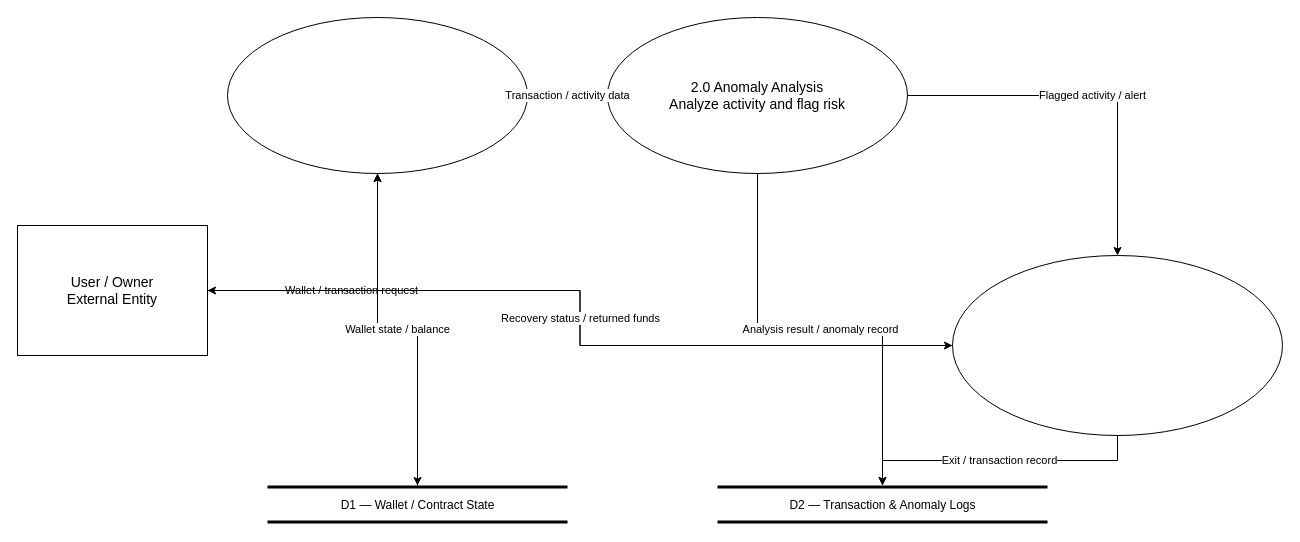
The diagram is 1300 pixels wide and 542 high, and some of its shapes have lost their labels. Each missing label, with the centre of its shape:
1.0 Wallet Management Connect, create, fund, transfer: the point at 377,95
3.0 Owner-Authorized Exit Swap / transfer protection funds: the point at 1117,345
